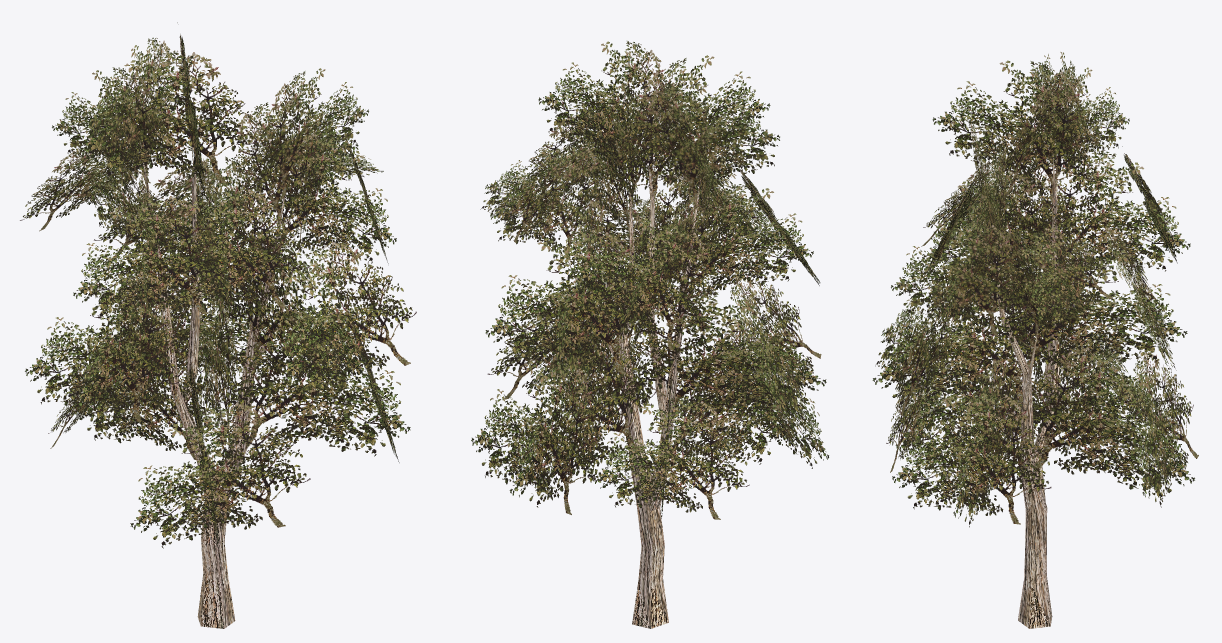
Rendered from stage-newy-p5-241.glb.
3 views of the same model, side by side, from view 1: azimuth 30°, elevation 25°; view 2: azimuth 150°, elevation 25°; view 3: azimuth 270°, elevation 25° (orthographic). The views are drawn at different scales.
Bounding box in the file's own units: 17.03 × 27.64 × 15.14.
2 materials, 2 textured.
